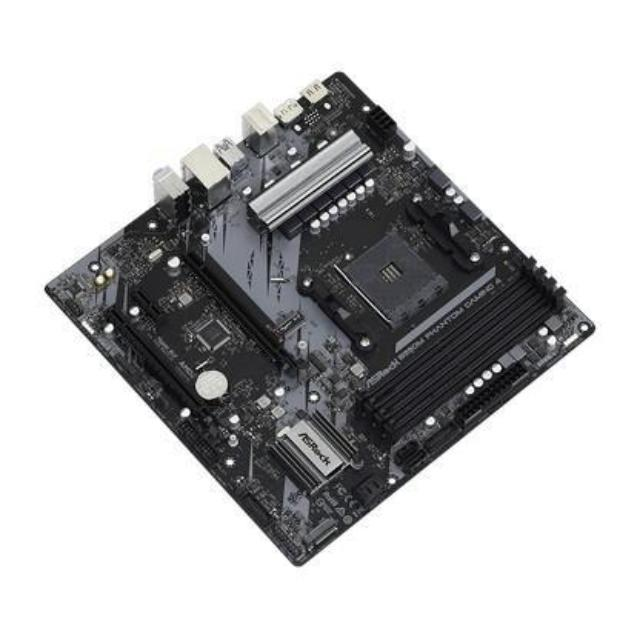Mainboard: (32, 59, 600, 573)
